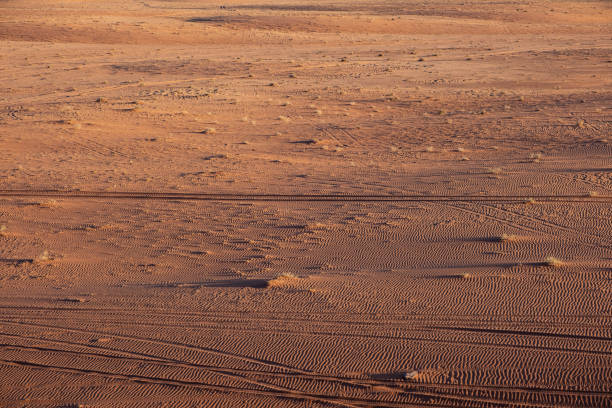vehicle_track: (0, 359, 564, 407), (0, 335, 292, 391), (0, 189, 611, 202)
